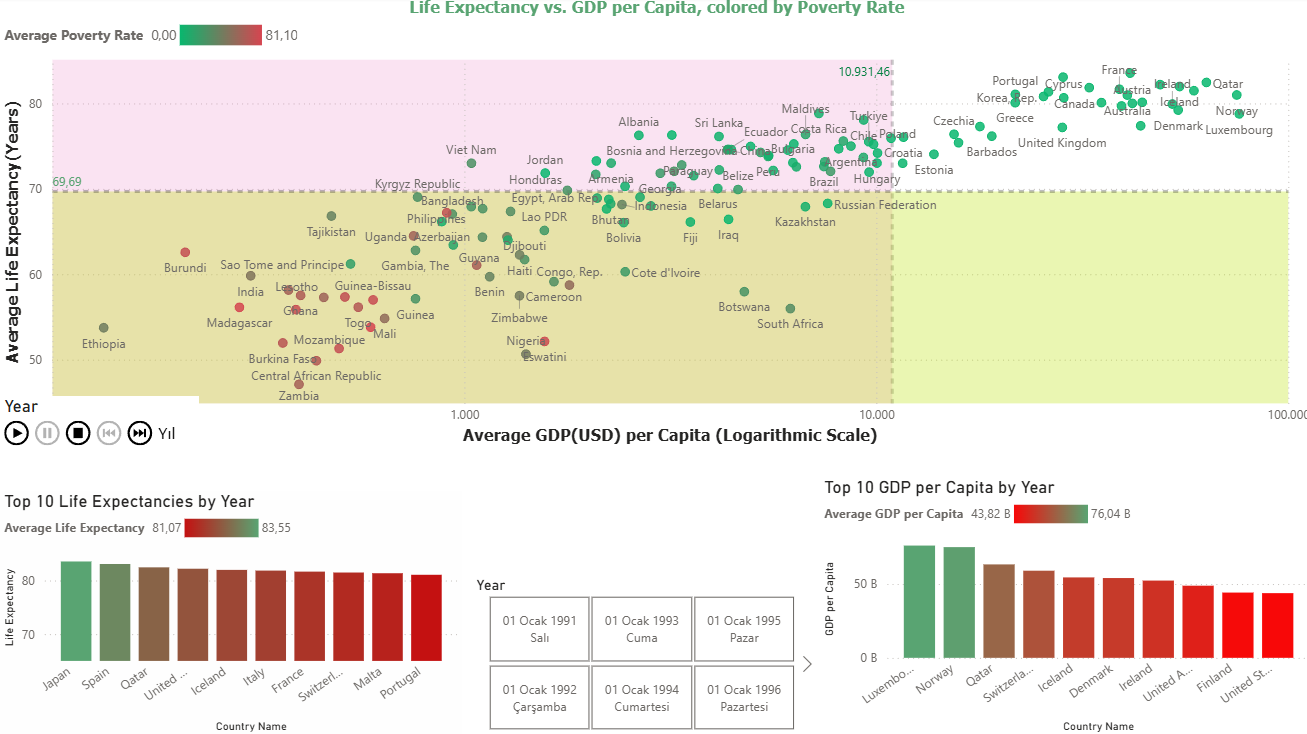

This screenshot's page, from the dashboard's own definition file:
{"tool":"powerbi","page":{"name":"Secondary","canvas":[1280,720],"ordinal":1},"visuals":[{"type":"scatterChart","title":"Life Expectancy vs. GDP per Capita, colored by Poverty Rate","fields":{"X":["Avg(wdi_UlkeData.gdp_per_capita)"],"Y":["Avg(wdi_UlkeData.life_expectancy)"],"Category":["wdi_UlkeData.Country Name"]},"box":[0,0,1280,440.6],"z":0},{"type":"PBI_CV_16948668_E17D_454B_8664_2F2C470EA8C1","title":"Year","fields":{"category":["wdi_UlkeData.Year.Varyasyon.Tarih Hiyerarşisi.Yıl","wdi_UlkeData.Year.Varyasyon.Tarih Hiyerarşisi.Çeyrek","wdi_UlkeData.Year.Varyasyon.Tarih Hiyerarşisi.Ay","wdi_UlkeData.Year.Varyasyon.Tarih Hiyerarşisi.Gün"]},"box":[0,388.1,193.6,52.5],"z":1000},{"type":"clusteredColumnChart","title":"Top 10 Life Expectancies by Year","fields":{"Category":["wdi_UlkeData.Country Name"],"Y":["Avg(wdi_UlkeData.life_expectancy)"]},"box":[0,480.5,451.3,239.3],"z":2000},{"type":"slicer","fields":{"Values":["wdi_UlkeData.Year"]},"box":[451.3,558.3,346.3,161.5],"z":3000},{"type":"clusteredColumnChart","title":"Top 10 GDP per Capita by Year","fields":{"Y":["Avg(wdi_UlkeData.gdp_per_capita)"],"Category":["wdi_UlkeData.Country Name"]},"box":[797.6,466.9,482.4,252.9],"z":4000}]}

Visuals, with their boxes in screenshot pixels (x1, y1, x2, y2), scaled from the page's 1280x720 canvas onto the 1307x734 screenshot:
"Life Expectancy vs. GDP per Capita, colored by Poverty Rate" scatterChart: locate(0, 0, 1306, 449)
"Year" PBI_CV_16948668_E17D_454B_8664_2F2C470EA8C1: locate(0, 396, 198, 449)
"Top 10 Life Expectancies by Year" clusteredColumnChart: locate(0, 490, 461, 733)
slicer - wdi_UlkeData.Year: locate(461, 569, 814, 733)
"Top 10 GDP per Capita by Year" clusteredColumnChart: locate(814, 476, 1306, 733)
